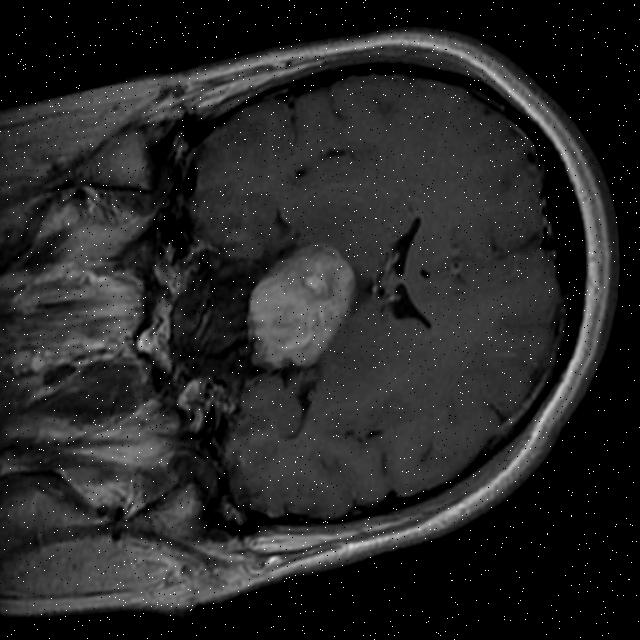Pituitary: (238, 237, 365, 375)
